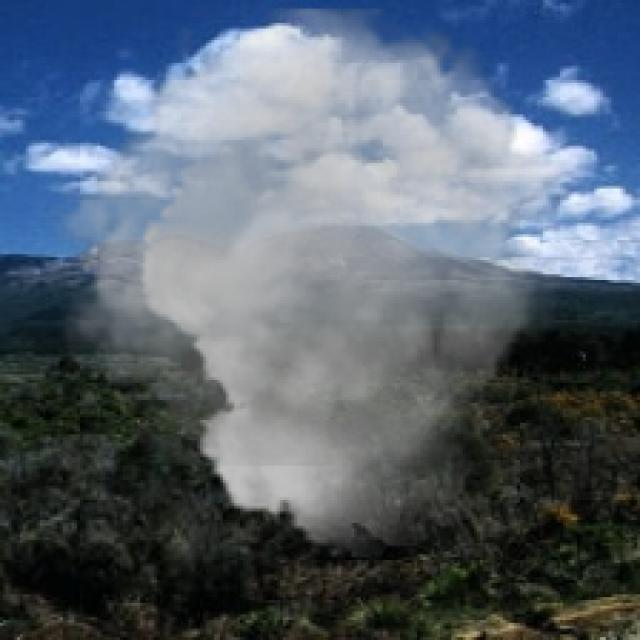smoke: (43, 9, 574, 557)
